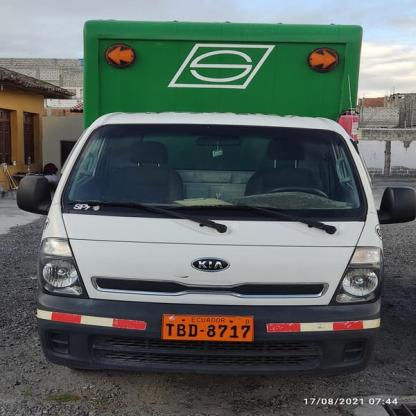Placa: (163, 308, 257, 345)
